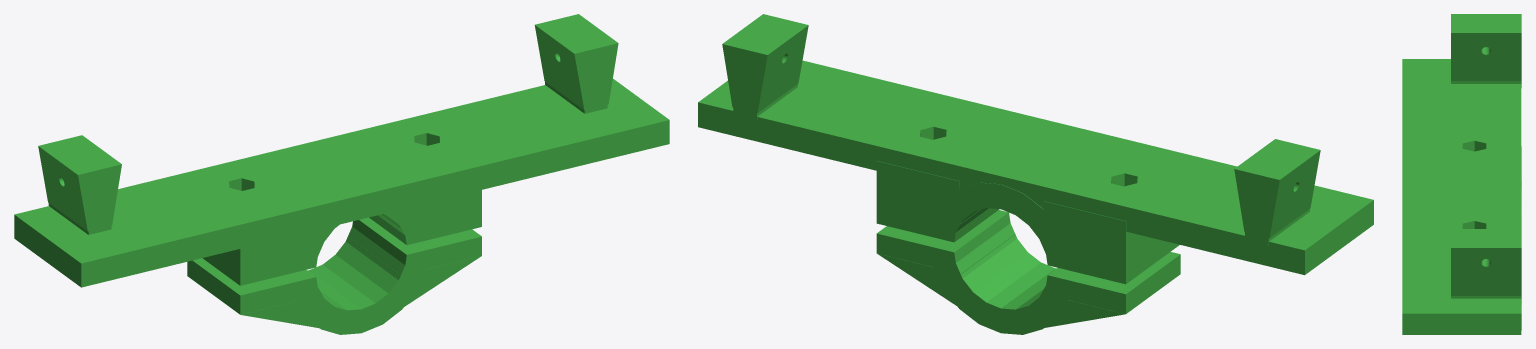
Rendered from doublesupport.obj.
The picture shows the model from 3 angles, left to right: view 1: azimuth 30°, elevation 25°; view 2: azimuth 150°, elevation 25°; view 3: azimuth 270°, elevation 25°; orthographic projection. The views are drawn at different scales.
Visible parts, largest first — view 1: obj_0; view 2: obj_0; view 3: obj_0.
Part boxes in pixels (<box>): obj_0: <box>14,14,669,334</box>; obj_0: <box>698,14,1373,334</box>; obj_0: <box>1402,14,1521,334</box>.
Bounding box in the file's own units: 128 × 44.59 × 25.34.
